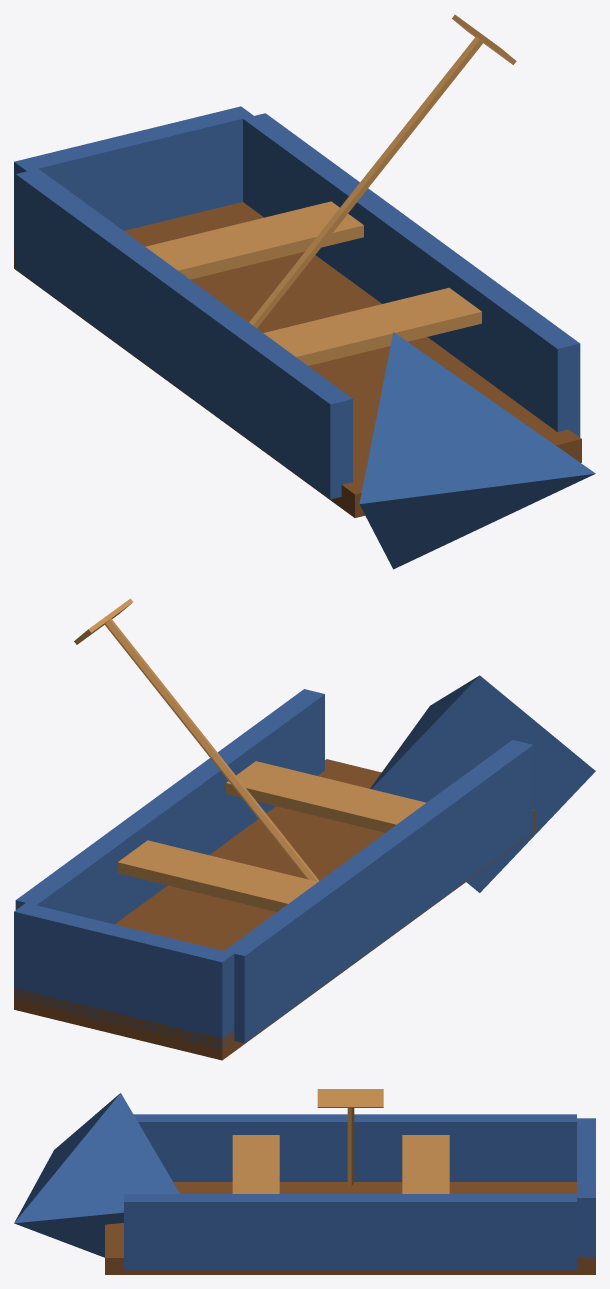
File: town_rowboat.glb
3 renders of one model, top to bottom at view 1: azimuth 30°, elevation 25°; view 2: azimuth 150°, elevation 25°; view 3: azimuth 270°, elevation 25°, orthographic. The views are drawn at different scales.
Parts seen in each view (by area): view 1: rowboat; view 2: rowboat; view 3: rowboat.
Boxes of the visible parts, x1=… form: rowboat: x1=14, y1=14, x2=595, y2=569; rowboat: x1=14, y1=598, x2=595, y2=1060; rowboat: x1=14, y1=1089, x2=595, y2=1274.
Size of the model in its own units: 1.5 by 1.52 by 3.08.
